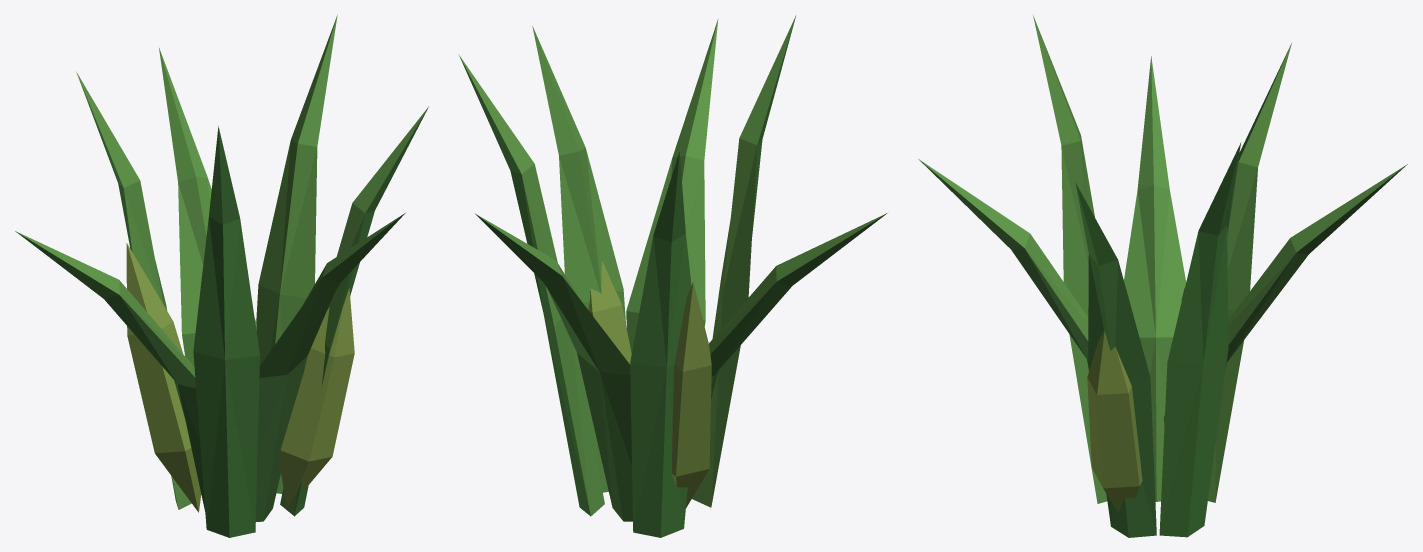
File: rice_2.obj
3 views of the same model, side by side, from view 1: azimuth 30°, elevation 25°; view 2: azimuth 150°, elevation 25°; view 3: azimuth 270°, elevation 25° (orthographic). The views are drawn at different scales.
Parts seen in each view (by area): view 1: rice_2; view 2: rice_2; view 3: rice_2.
Part boxes in pixels (bbox=[...]): rice_2: bbox=[15, 15, 428, 537]; rice_2: bbox=[458, 15, 887, 537]; rice_2: bbox=[918, 15, 1407, 537].
Size of the model in its own units: 0.4424 by 0.5019 by 0.4874.
